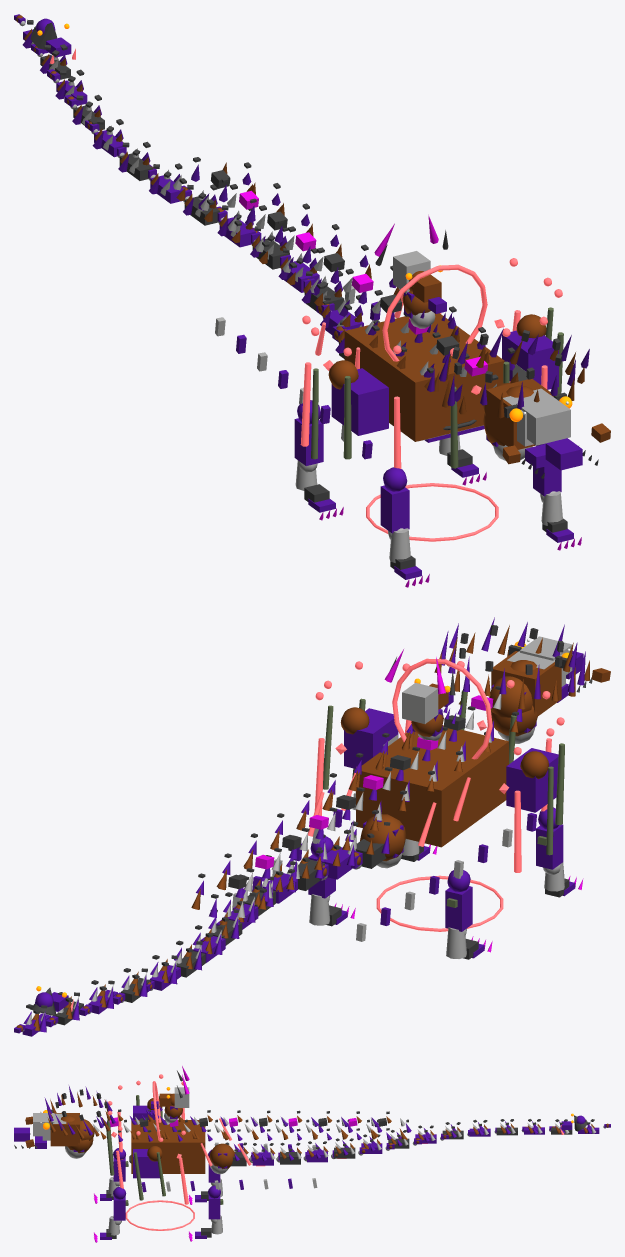
Rendered from ChimeraB.glb.
The picture shows the model from 3 angles, top to bottom: view 1: azimuth 30°, elevation 25°; view 2: azimuth 150°, elevation 25°; view 3: azimuth 270°, elevation 25°; orthographic projection. The views are drawn at different scales.
Parts seen in each view (by area): view 1: ChimeraBody, ChimeraLionHead, ChimeraGoatHead; view 2: ChimeraBody, ChimeraLionHead, ChimeraGoatHead; view 3: ChimeraBody, ChimeraLionHead, ChimeraGoatHead.
Boxes of the visible parts, bbox=[...] form: ChimeraBody: bbox=[14, 14, 581, 587]; ChimeraLionHead: bbox=[427, 328, 610, 478]; ChimeraGoatHead: bbox=[374, 215, 458, 335]; ChimeraBody: bbox=[14, 658, 583, 1036]; ChimeraLionHead: bbox=[434, 617, 610, 716]; ChimeraGoatHead: bbox=[384, 649, 462, 723]; ChimeraBody: bbox=[65, 1074, 610, 1242]; ChimeraLionHead: bbox=[14, 1086, 115, 1148]; ChimeraGoatHead: bbox=[142, 1066, 189, 1120].
Size of the model in its own units: 2.2 by 2.52 by 9.03.
